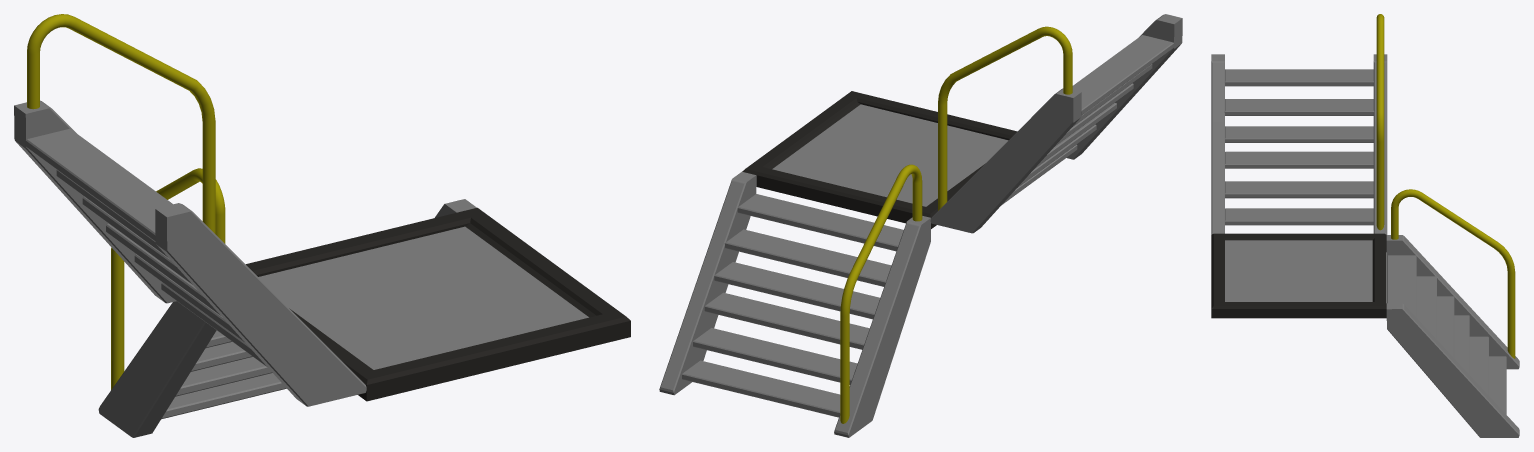
File: Staircase.fbx
The picture shows the model from 3 angles, left to right: view 1: azimuth 30°, elevation 25°; view 2: azimuth 150°, elevation 25°; view 3: azimuth 270°, elevation 25°; orthographic projection. The views are drawn at different scales.
Parts seen in each view (by area): view 1: Staircase, Rail; view 2: Staircase, Rail; view 3: Staircase, Rail.
Boxes of the visible parts, x1,y1,x2,y2 form: Staircase: (14, 100, 630, 437); Rail: (27, 14, 225, 389); Staircase: (659, 14, 1182, 437); Rail: (840, 26, 1072, 423); Staircase: (1211, 54, 1519, 437); Rail: (1376, 14, 1515, 358).
Size of the model in its own units: 206 by 223 by 206.
